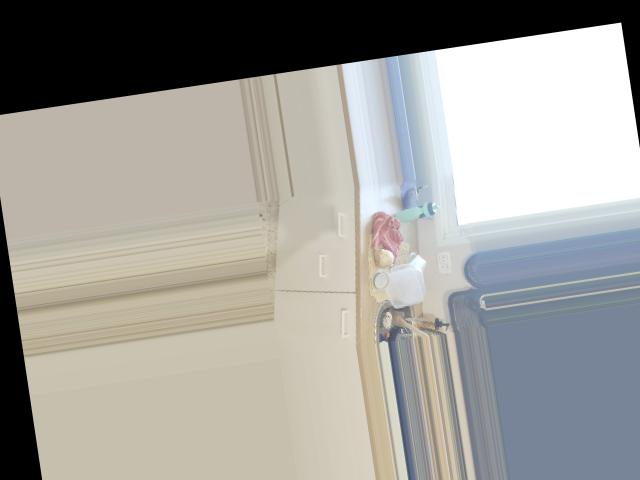onion: (368, 242, 396, 268)
